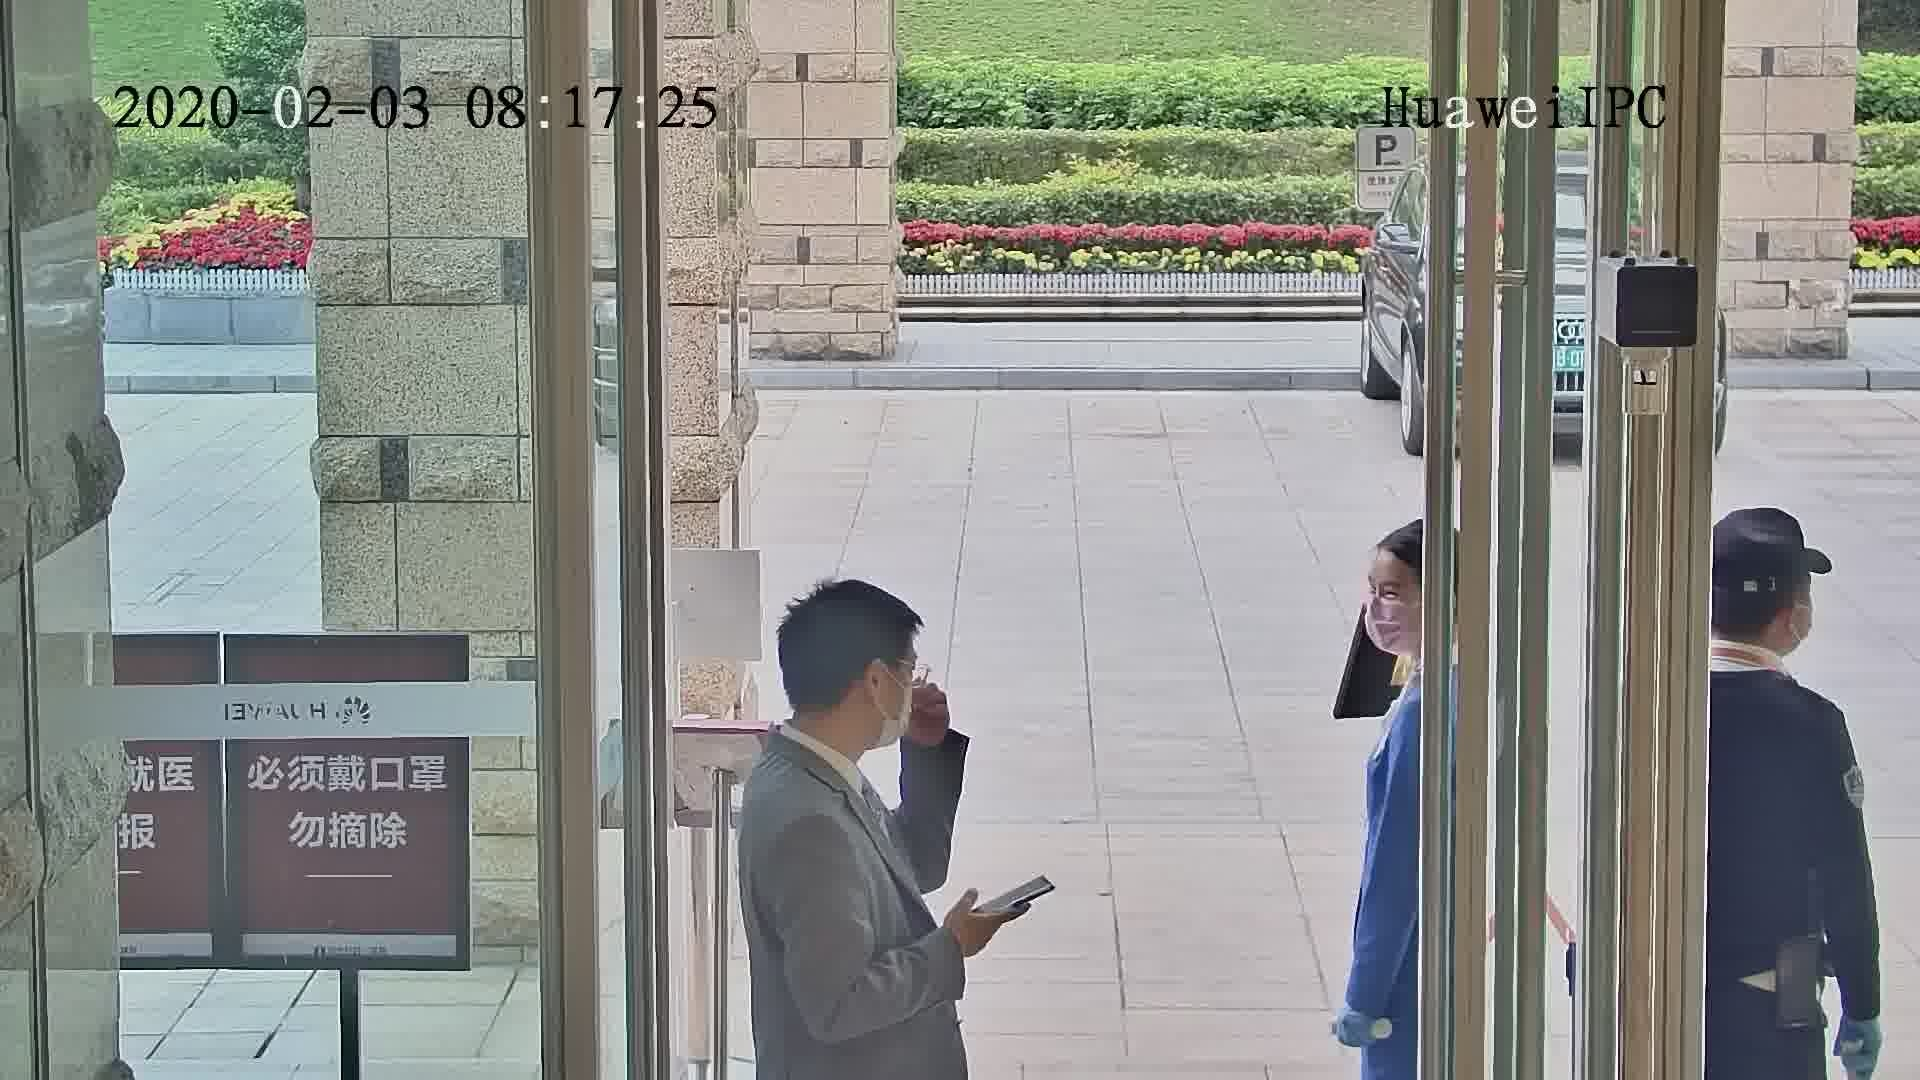face: (1360, 549, 1420, 662), (885, 644, 927, 762)
mask: (1363, 595, 1416, 658), (885, 678, 916, 758)
person: (733, 572, 918, 877), (1700, 504, 1854, 787), (1347, 511, 1465, 780)
